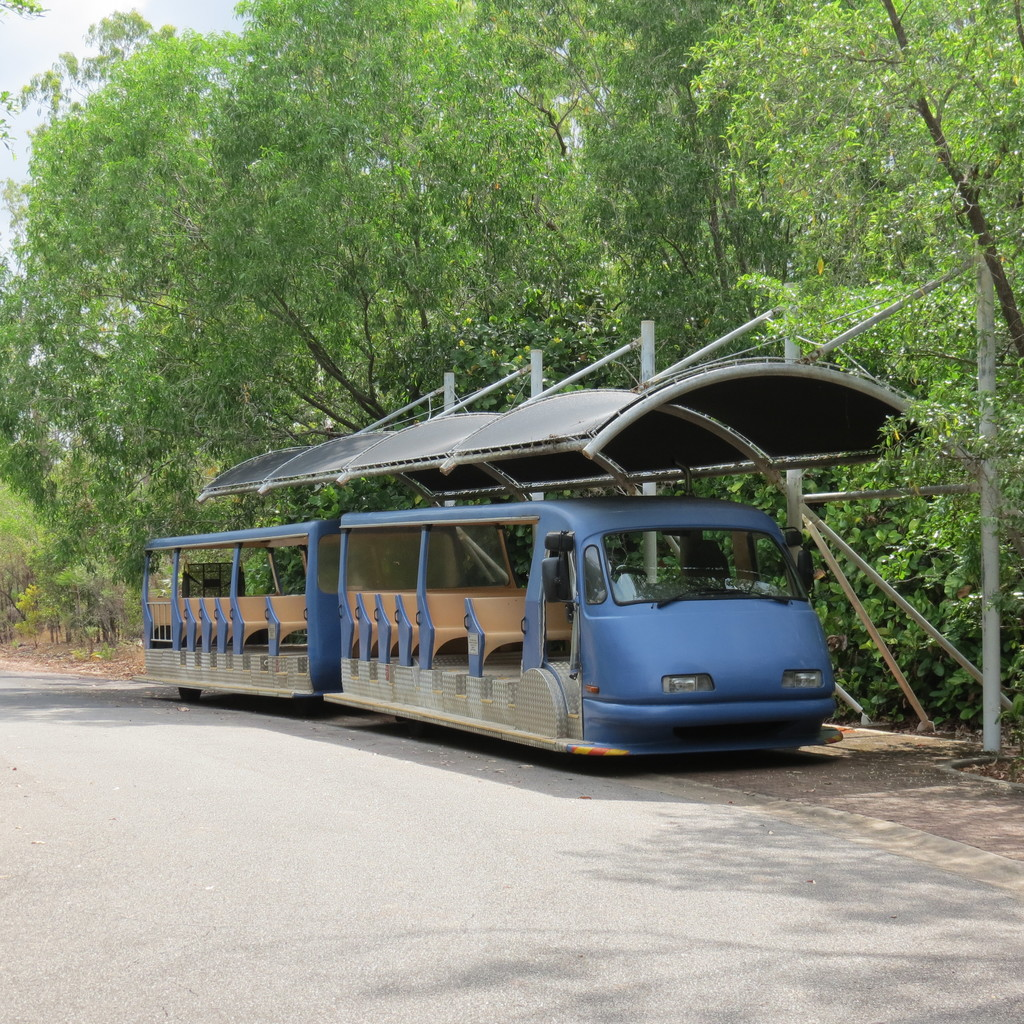Bus: (140, 492, 817, 761)
